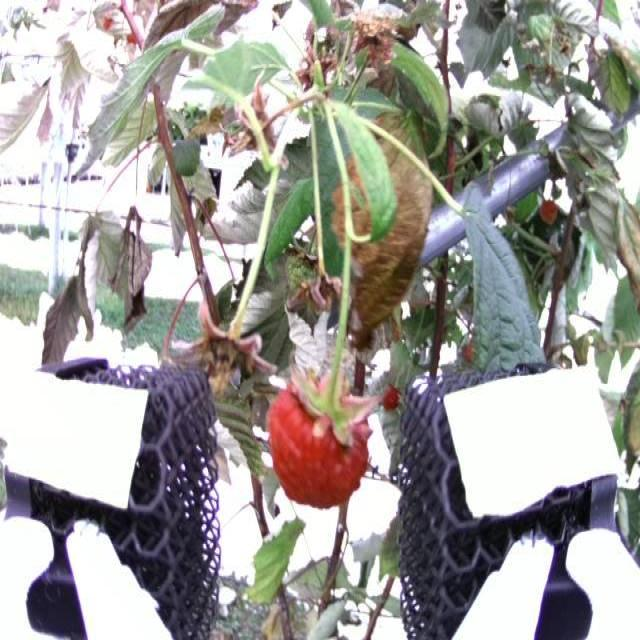Riped berries: (264, 361, 372, 514)
